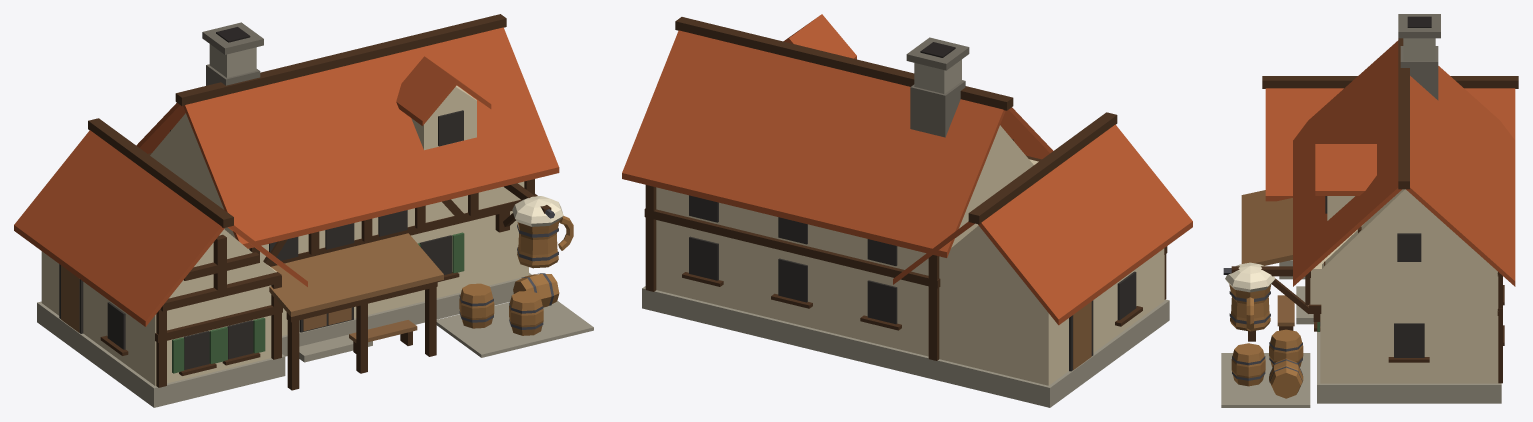
Rendered from era1-alehouse-DzKeXhBP.glb.
3 views of the same model, side by side, from view 1: azimuth 30°, elevation 25°; view 2: azimuth 150°, elevation 25°; view 3: azimuth 270°, elevation 25° (orthographic). The views are drawn at different scales.
Parts seen in each view (by area): view 1: Alehouse_HallRoof, Alehouse_WingRoof, Alehouse_PorchRoof, Alehouse_WingWalls, Alehouse_WingFooting, Alehouse_HallLower, Alehouse_HallRidge, Alehouse_YardFlags, Alehouse_HallFooting, Alehouse_DormerRoof, Alehouse_WingRidge, Alehouse_GableL (+32 smaller); view 2: Alehouse_HallRoof, Alehouse_WingRoof, Alehouse_HallLower, Alehouse_WingWalls, Alehouse_HallFooting, Alehouse_WingFooting, Alehouse_HallUpper, Alehouse_HallRidge, Alehouse_WingGableB, Alehouse_BackBeam, Alehouse_WingRidge, Alehouse_GableL (+14 smaller); view 3: Alehouse_HallRoof, Alehouse_HallLower, Alehouse_HallUpper, Alehouse_GableR, Alehouse_WingRoof, Alehouse_HallFooting, Alehouse_PorchRoof, Alehouse_DormerRoof, Alehouse_YardFlags, Alehouse_WingRidge, Alehouse_HallRidge, Alehouse_Tankard (+16 smaller).
Part boxes in pixels (<box>): Alehouse_HallRoof: <box>136,27,559,248</box>; Alehouse_WingRoof: <box>14,130,307,326</box>; Alehouse_PorchRoof: <box>269,233,443,316</box>; Alehouse_WingWalls: <box>41,251,276,386</box>; Alehouse_WingFooting: <box>37,301,285,407</box>; Alehouse_HallLower: <box>282,211,528,335</box>; Alehouse_HallRidge: <box>175,14,506,105</box>; Alehouse_YardFlags: <box>436,301,593,357</box>; Alehouse_HallFooting: <box>282,273,531,356</box>; Alehouse_DormerRoof: <box>396,56,491,125</box>; Alehouse_WingRidge: <box>88,118,233,228</box>; Alehouse_GableL: <box>150,113,224,209</box>; Alehouse_HallRoof: <box>622,30,1053,257</box>; Alehouse_WingRoof: <box>893,124,1192,325</box>; Alehouse_HallLower: <box>656,220,939,356</box>; Alehouse_WingWalls: <box>921,248,1164,385</box>; Alehouse_HallFooting: <box>642,286,942,381</box>; Alehouse_WingFooting: <box>916,299,1169,407</box>; Alehouse_HallUpper: <box>656,159,1038,275</box>; Alehouse_HallRidge: <box>675,17,1013,110</box>; Alehouse_WingGableB: <box>922,225,1038,301</box>; Alehouse_BackBeam: <box>644,208,940,288</box>; Alehouse_WingRidge: <box>968,112,1117,224</box>; Alehouse_GableL: <box>962,125,1033,219</box>; Alehouse_HallRoof: <box>1293,40,1515,286</box>; Alehouse_HallLower: <box>1320,312,1498,383</box>; Alehouse_HallUpper: <box>1310,229,1498,312</box>; Alehouse_GableR: <box>1320,189,1496,270</box>; Alehouse_WingRoof: <box>1265,88,1515,201</box>; Alehouse_HallFooting: <box>1317,332,1501,403</box>; Alehouse_PorchRoof: <box>1241,190,1292,265</box>; Alehouse_DormerRoof: <box>1315,144,1376,195</box>; Alehouse_YardFlags: <box>1221,353,1310,407</box>; Alehouse_WingRidge: <box>1262,76,1518,88</box>; Alehouse_HallRidge: <box>1398,38,1409,189</box>; Alehouse_Tankard: <box>1229,284,1271,331</box>.
Bounding box in the file's own units: 13.8 × 8.64 × 8.7.
